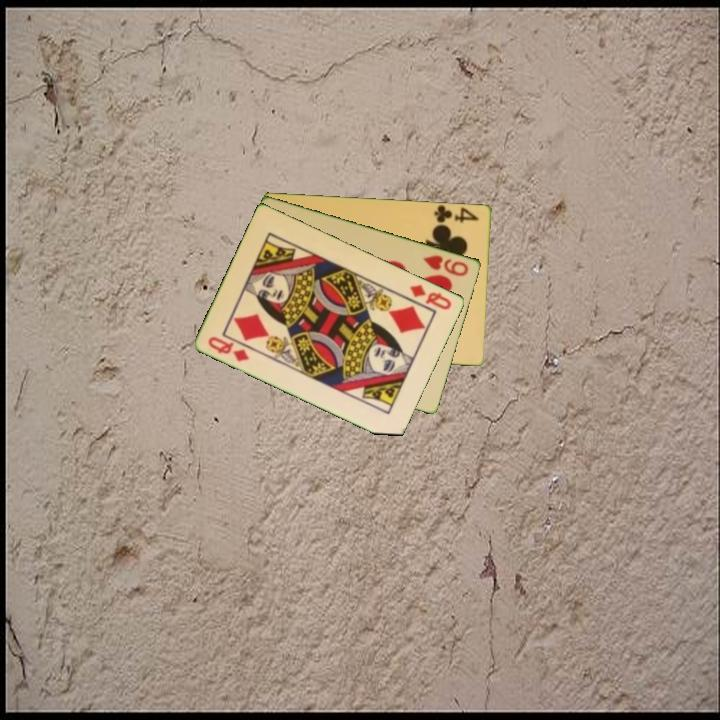4c: (431, 203, 482, 225)
9h: (420, 251, 472, 279)
Qd: (407, 281, 455, 313), (205, 333, 252, 364)
